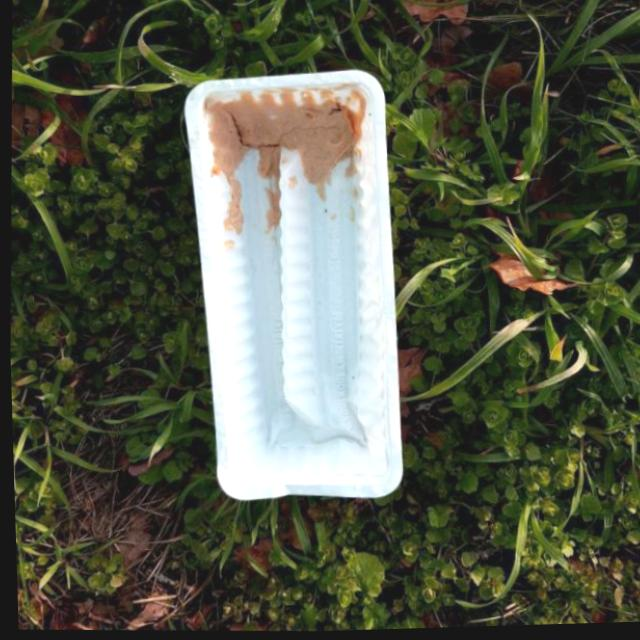Plastic: (165, 60, 416, 511)
